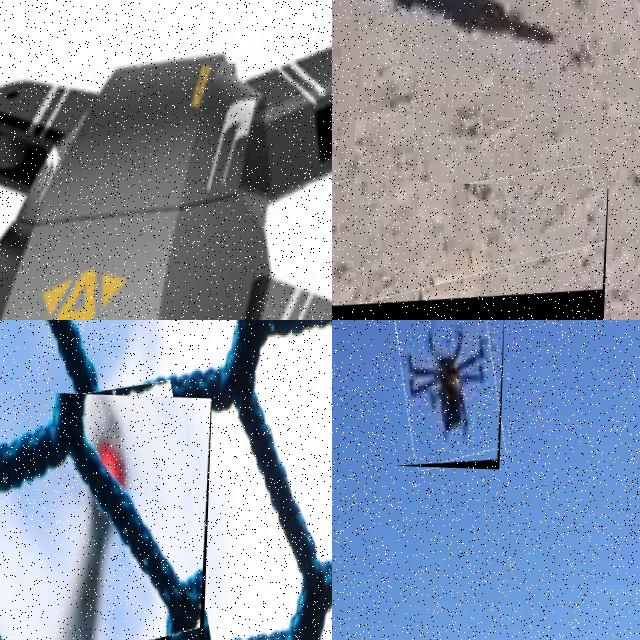0: (332, 171, 608, 320), (396, 320, 504, 469)
drone: (0, 0, 332, 320), (0, 383, 211, 640)
